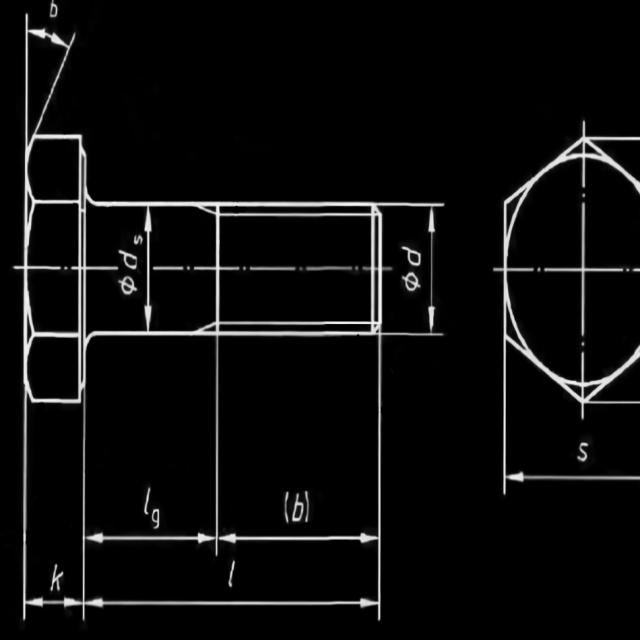marking_line: (78, 405, 387, 630), (212, 339, 386, 561), (82, 393, 226, 560), (15, 405, 93, 624), (499, 406, 640, 498), (383, 198, 449, 340), (19, 13, 78, 132), (10, 408, 41, 621), (141, 207, 156, 330)
special_symbol: (399, 268, 421, 294), (115, 276, 137, 296), (47, 0, 62, 16)
